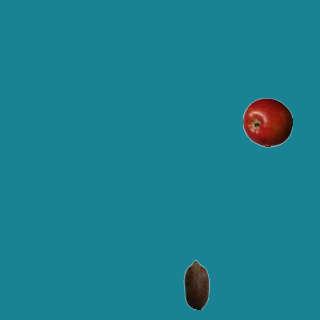Apple Braeburn: (242, 97, 292, 147)
Nut Pecan: (171, 259, 221, 309)
